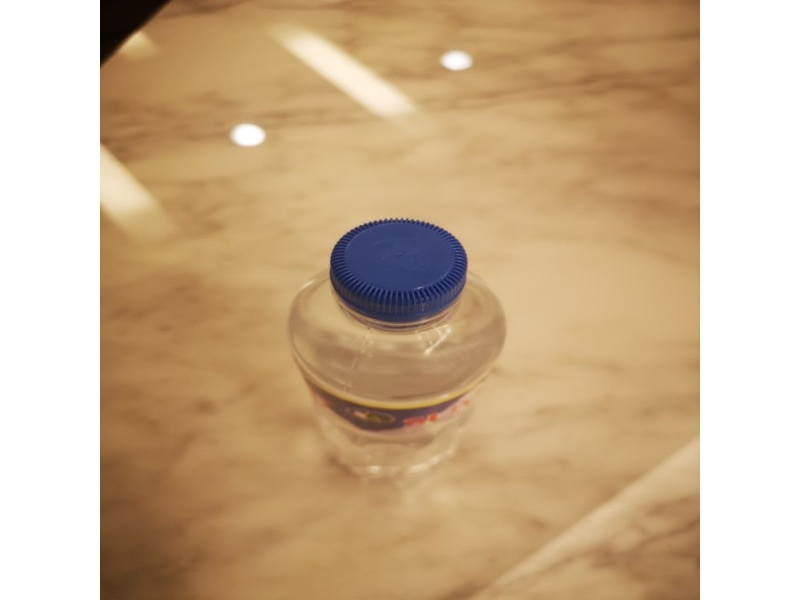PET #1: (281, 223, 507, 491)
